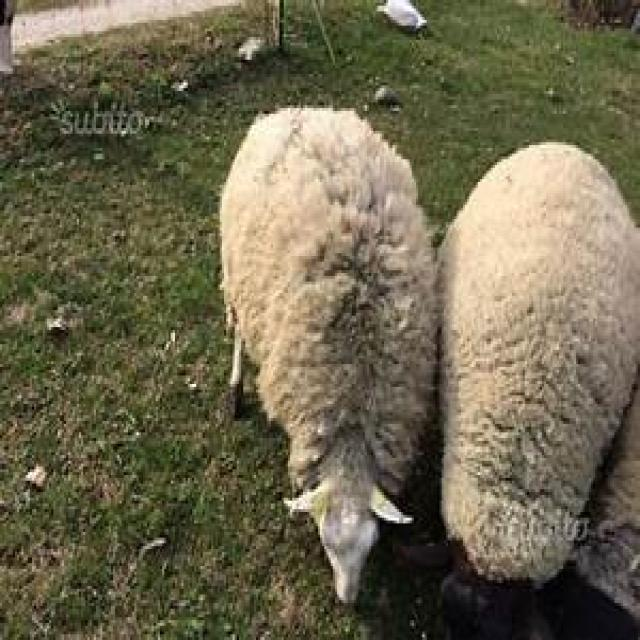animal: (218, 102, 437, 606), (439, 108, 638, 640)
